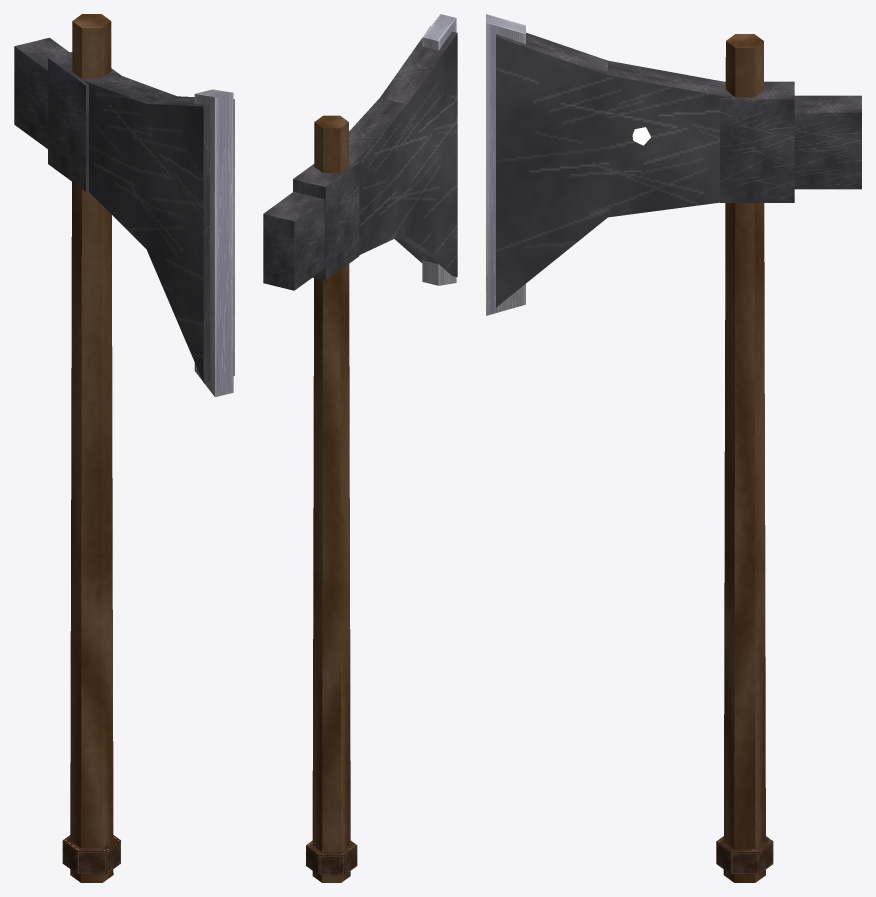
The model's file is WoodcutterAxe.fbx.
3 views of the same model, side by side, from view 1: azimuth 30°, elevation 25°; view 2: azimuth 150°, elevation 25°; view 3: azimuth 270°, elevation 25° (orthographic). The views are drawn at different scales.
Visible parts, largest first — view 1: Head, Handle; view 2: Head, Handle; view 3: Head, Handle.
Part boxes in pixels (bbox=[...]): Head: bbox=[14, 37, 234, 396]; Handle: bbox=[62, 14, 120, 882]; Head: bbox=[263, 14, 457, 290]; Handle: bbox=[306, 115, 357, 882]; Head: bbox=[486, 14, 861, 315]; Handle: bbox=[716, 34, 773, 882].
Size of the model in its own units: 32.22 by 380 by 151.
Materials: 2 (1 with a texture image).
